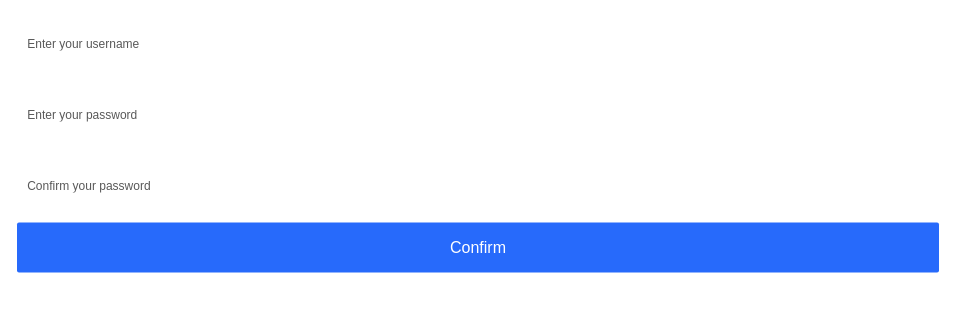
it: resetpw › invalid confirm new password
Type "hihihi" into the password field named "newpassword". click: point(478, 114)
box: [17,94,939,134]
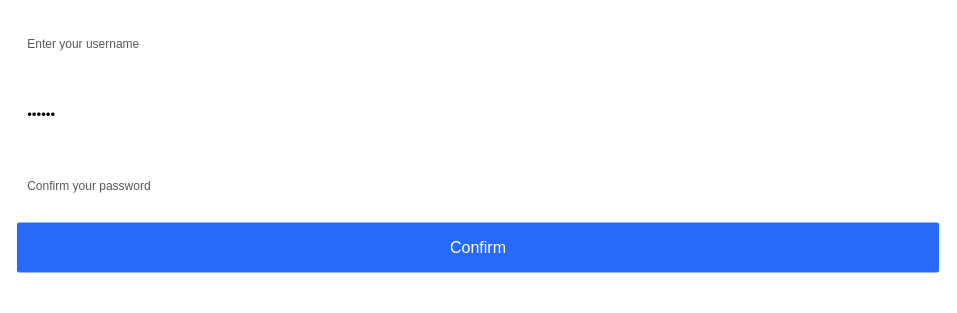
Type "hihih" into the password field named "confirmnewpassword". click: point(478, 184)
box: [17,164,939,204]
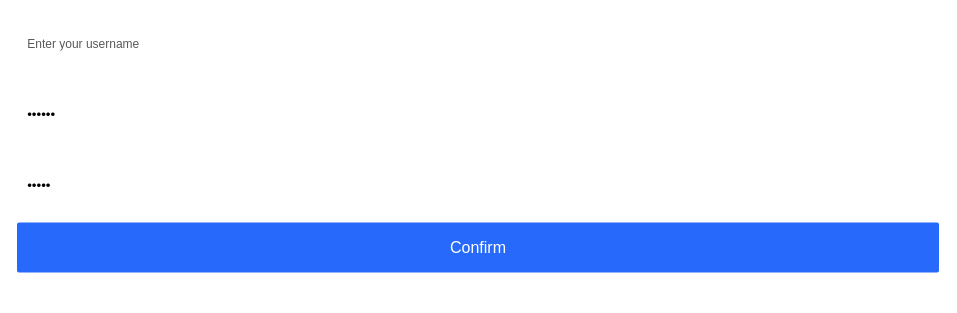
Click the button "Confirm". click: point(478, 248)
box: [17,222,939,272]
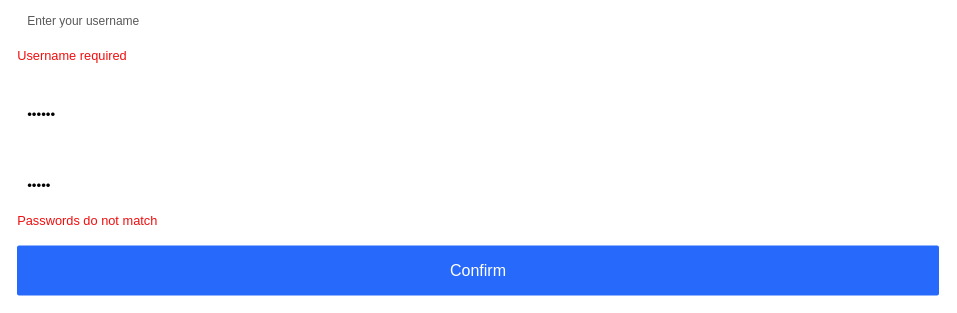
Expected: the text named "invalid-confirm-new-password" reads "Passwords do not match", [17,212,157,228]
